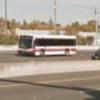buses: (18, 35, 77, 56)
